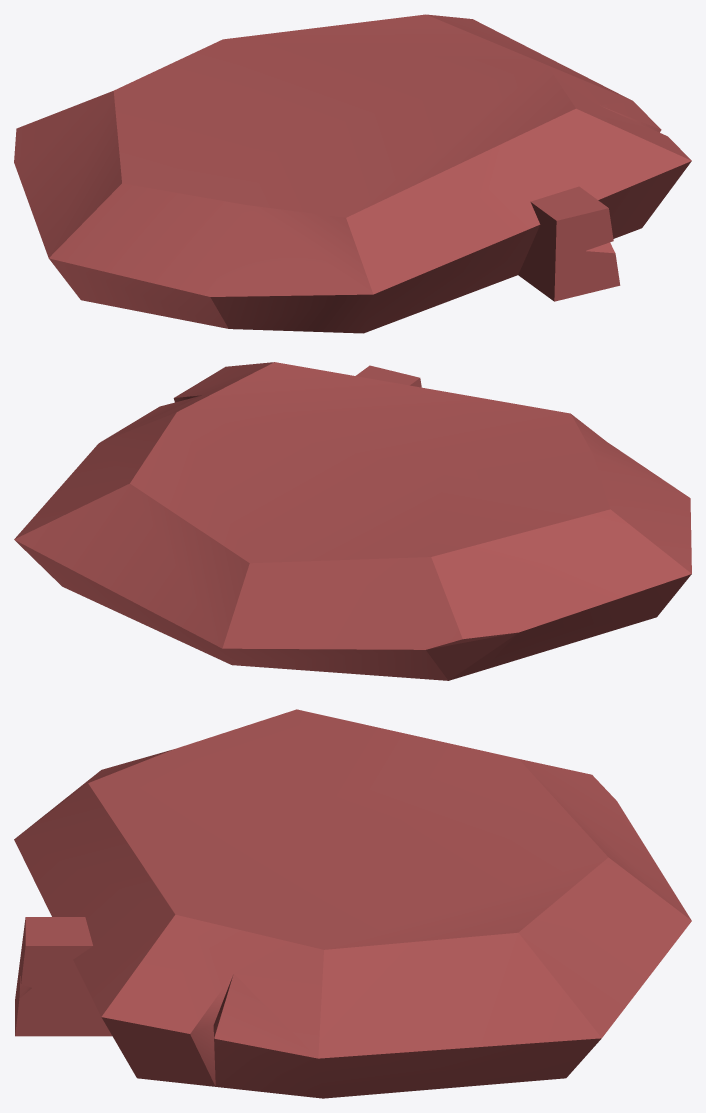
File: SM_Flat_Stone_03.fbx
3 views of the same model, one above another, from view 1: azimuth 30°, elevation 25°; view 2: azimuth 150°, elevation 25°; view 3: azimuth 270°, elevation 25° (orthographic). The views are drawn at different scales.
Visible parts, largest first — view 1: Box069; view 2: Box069; view 3: Box069.
Boxes of the visible parts, box(x1,y1,x2,y2) form: Box069: box(14, 14, 691, 333); Box069: box(14, 362, 691, 680); Box069: box(14, 709, 691, 1098).
Size of the model in its own units: 133 by 25.35 by 114.
